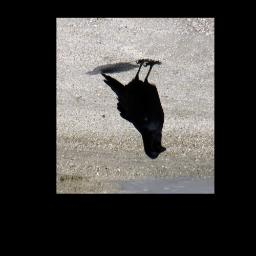Crow: (99, 58, 168, 161)
